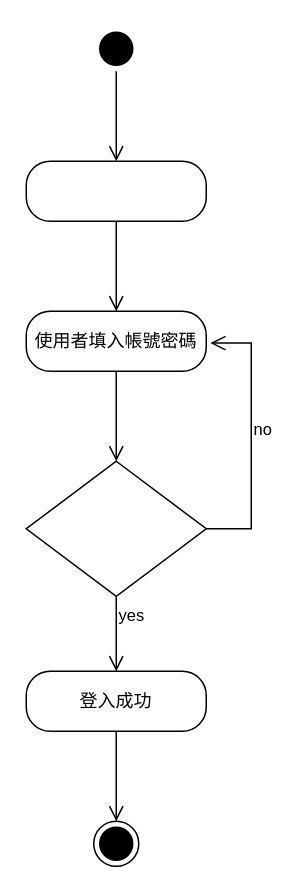
Some shapes in this 299 by 893 pixel diagram are drawn without their labels. The shapes that lost their labels are listed below. From the top down, each one's box as (x1, y1, x2, y2) in pixels, then its label:
(25, 160, 206, 221): 使用者登入
(25, 460, 206, 596): 檢查帳號密碼 是否正確
